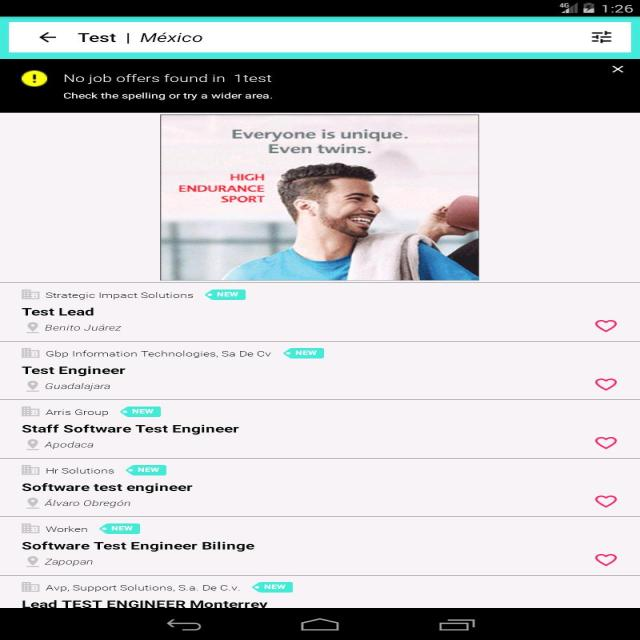button: (589, 316, 618, 336), (34, 26, 62, 46), (592, 374, 620, 394), (590, 550, 620, 568), (586, 29, 614, 48), (595, 435, 620, 452), (594, 491, 615, 511)
field: (11, 23, 628, 52)
image: (158, 116, 480, 283)
text: (13, 345, 335, 394), (12, 401, 260, 454), (16, 521, 262, 567), (13, 288, 252, 335), (12, 464, 214, 512), (11, 582, 303, 611), (61, 71, 276, 106), (72, 26, 205, 47)
